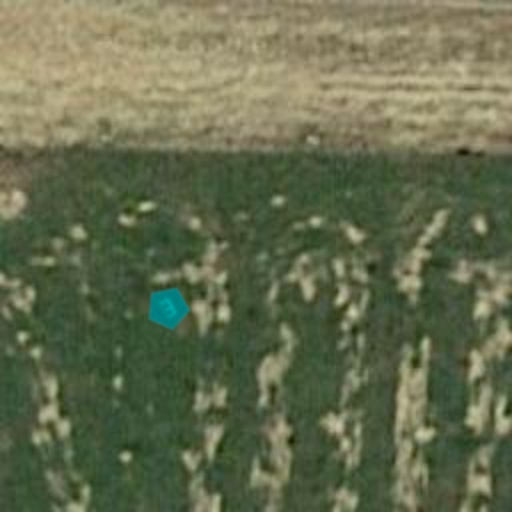pentagon: (136, 276, 200, 340)
